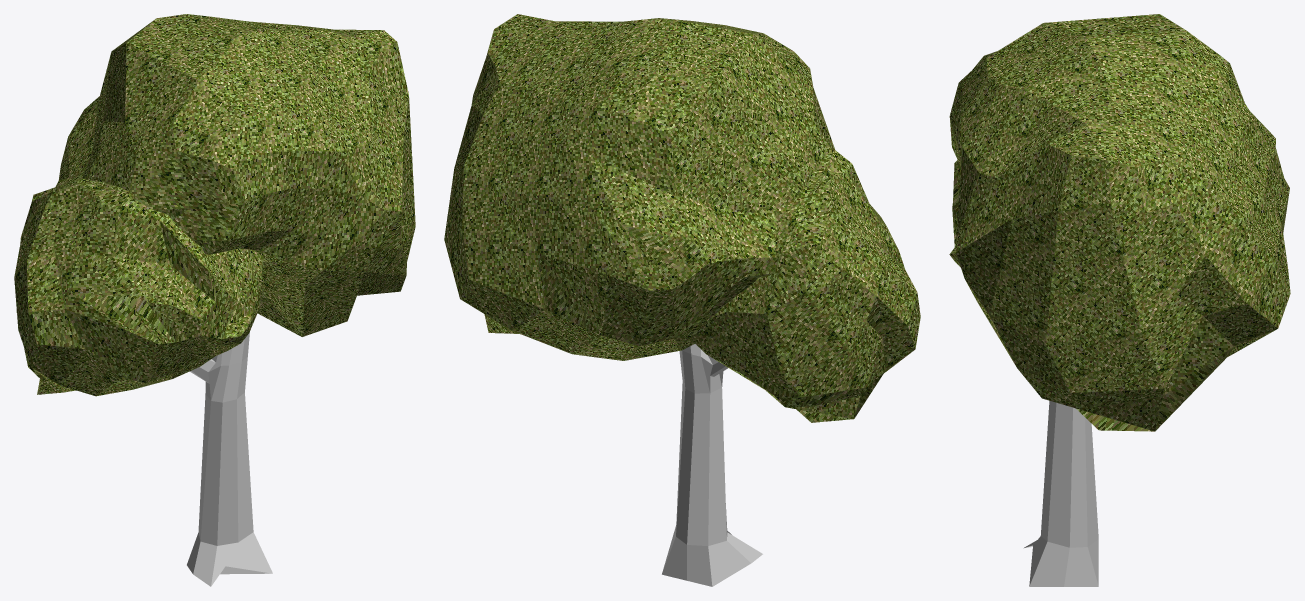
The model's file is Tree.fbx.
The picture shows the model from 3 angles, left to right: view 1: azimuth 30°, elevation 25°; view 2: azimuth 150°, elevation 25°; view 3: azimuth 270°, elevation 25°; orthographic projection. The views are drawn at different scales.
Parts seen in each view (by area): view 1: Leaves, Trunk; view 2: Leaves, Trunk; view 3: Leaves, Trunk.
Part boxes in pixels (left/top/right/bottom): Leaves: left=14, top=14, right=415, bottom=396; Trunk: left=187, top=332, right=272, bottom=586; Leaves: left=444, top=14, right=920, bottom=422; Trunk: left=662, top=344, right=762, bottom=586; Leaves: left=949, top=14, right=1290, bottom=431; Trunk: left=1023, top=400, right=1098, bottom=586.
Size of the model in its own units: 1644 by 2081 by 1176.
